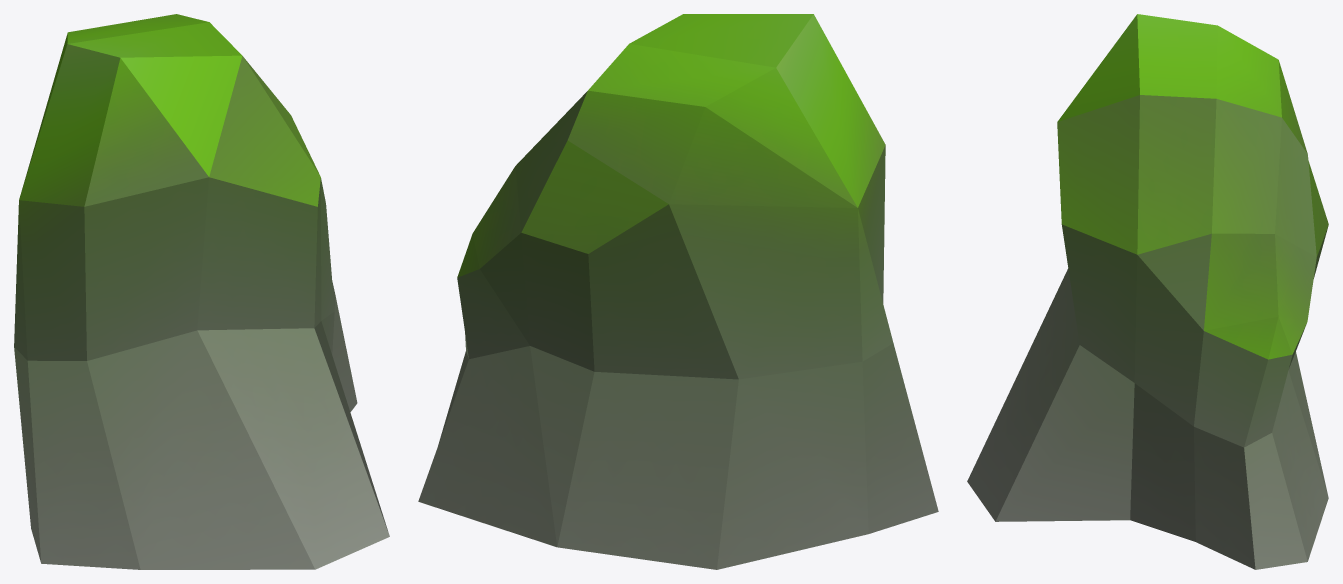
File: RockMoss3.fbx
The picture shows the model from 3 angles, left to right: view 1: azimuth 30°, elevation 25°; view 2: azimuth 150°, elevation 25°; view 3: azimuth 270°, elevation 25°; orthographic projection. The views are drawn at different scales.
Visible parts, largest first — view 1: RockMoss3; view 2: RockMoss3; view 3: RockMoss3.
Boxes of the visible parts, <box> form: RockMoss3: <box>14,14,389,569</box>; RockMoss3: <box>418,14,938,569</box>; RockMoss3: <box>967,14,1328,569</box>.
Bounding box in the file's own units: 50.24 × 55.94 × 43.3.
